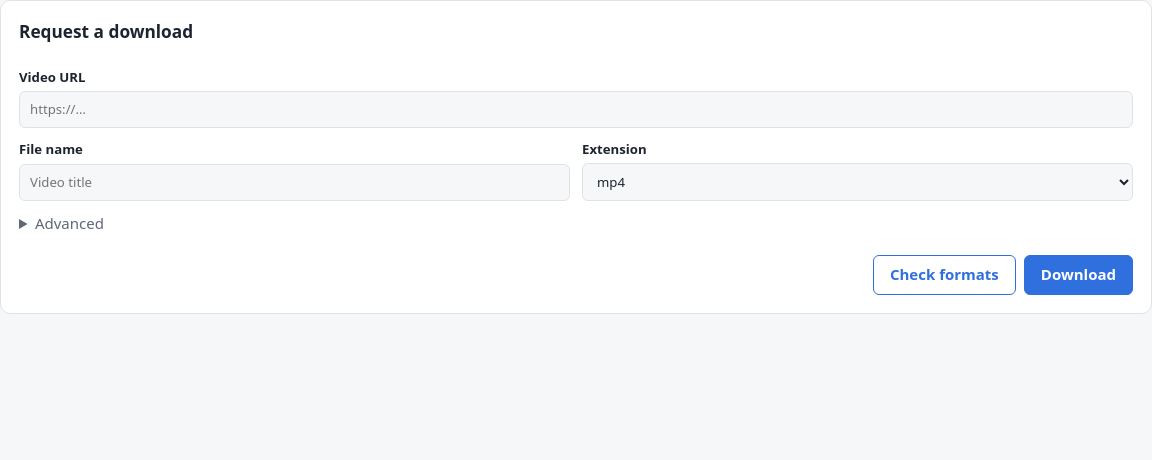
Scenario: DownloadForm › collapses and expands the formats table
Type "https://example.com/v" into the field labelled "Video URL" at coordinates (576, 110), box [19,91,1133,128]
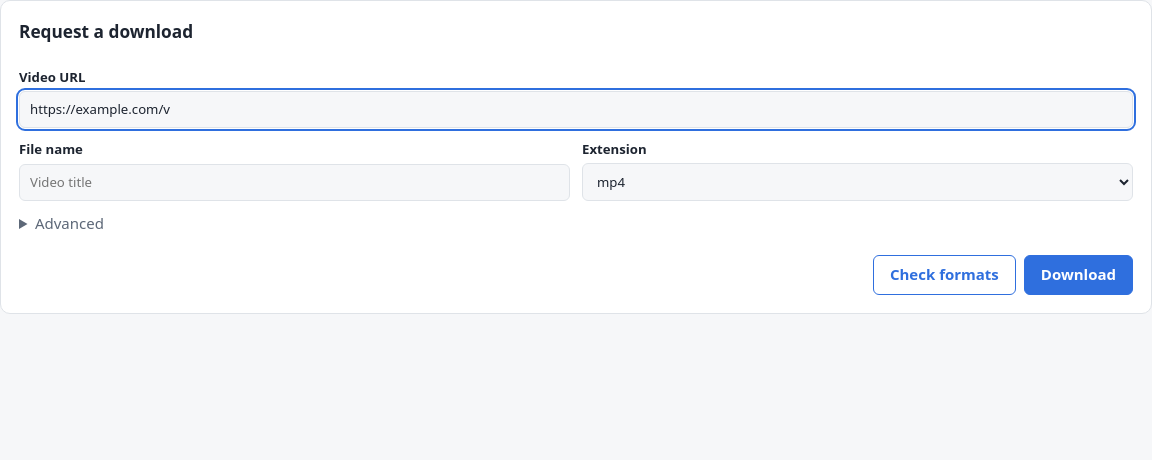
Click the button "Check formats" at coordinates (944, 275), box [873,255,1016,295]
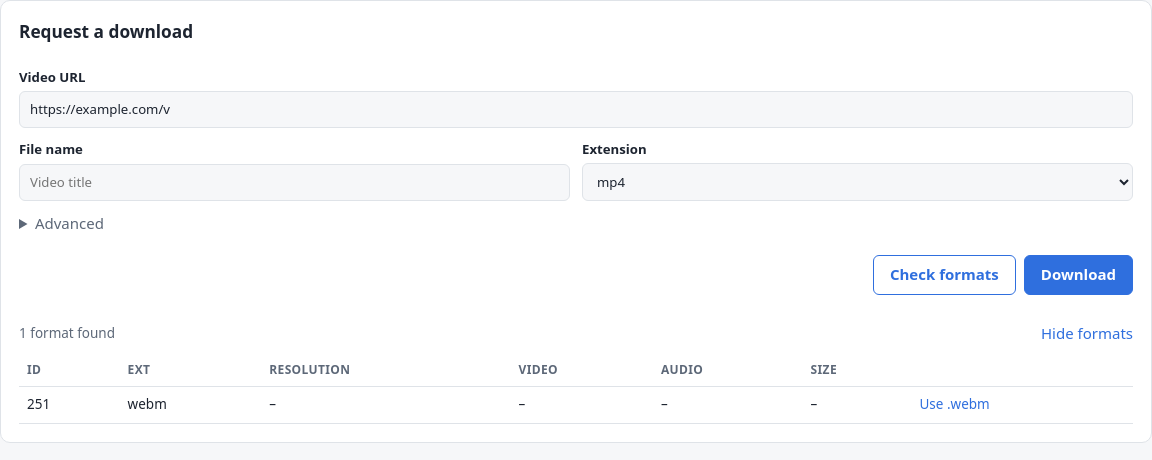
Check: the table named "Available formats" is shown, box [19,353,1133,424]
Click the button "Hide formats" at coordinates (1087, 334), box [1041,323,1133,345]
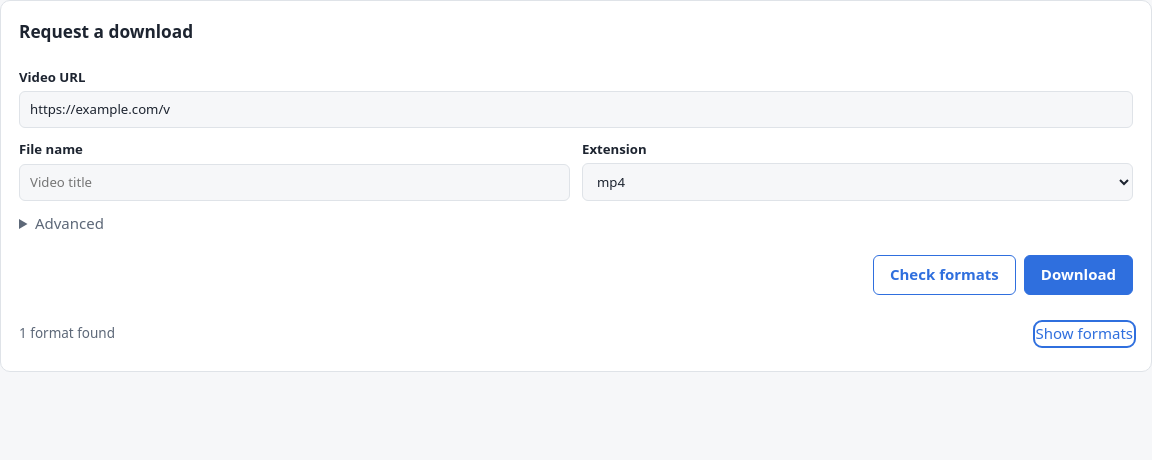
Check: the text "1 format found" is shown, box [19,324,115,344]
Click the button "Show formats" at coordinates (1084, 334), box [1036,323,1133,345]
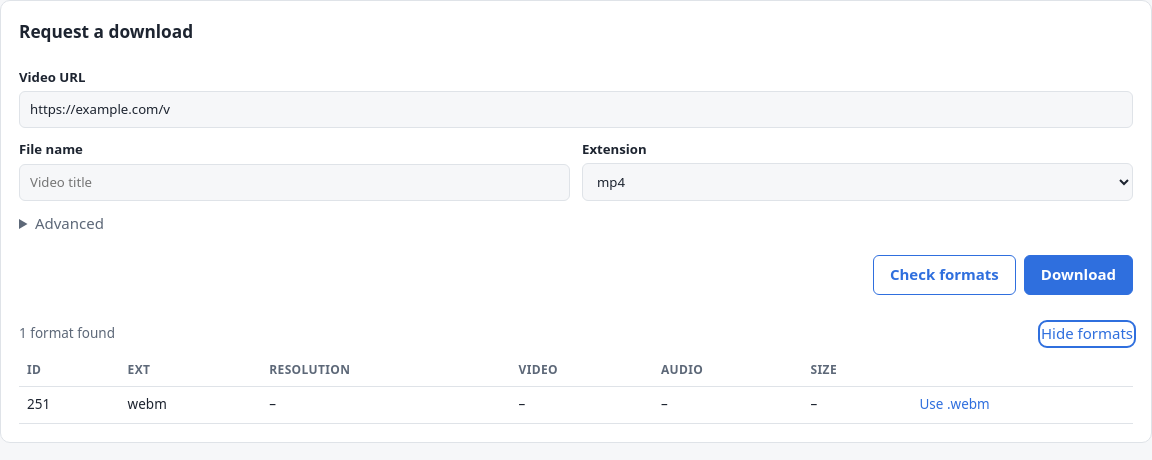
Check: the table named "Available formats" is shown, box [19,353,1133,424]
